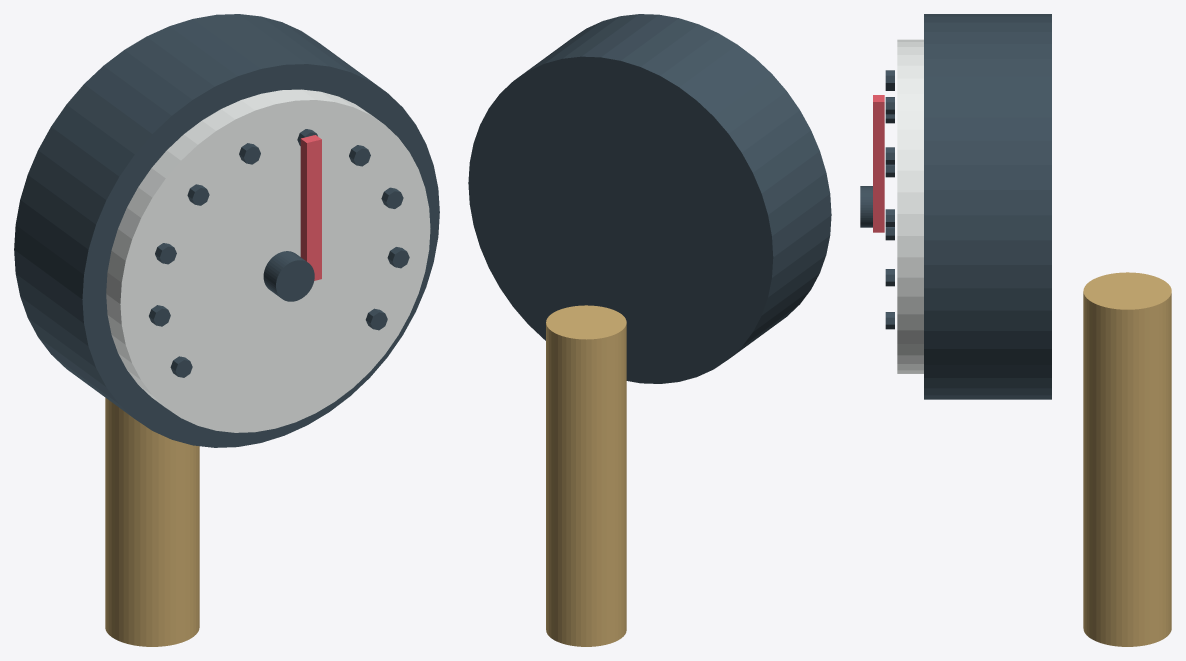
File: gauge.glb
The picture shows the model from 3 angles, left to right: view 1: azimuth 30°, elevation 25°; view 2: azimuth 150°, elevation 25°; view 3: azimuth 270°, elevation 25°; orthographic projection. The views are drawn at different scales.
Size of the model in its own units: 0.166 by 0.283 by 0.134.
